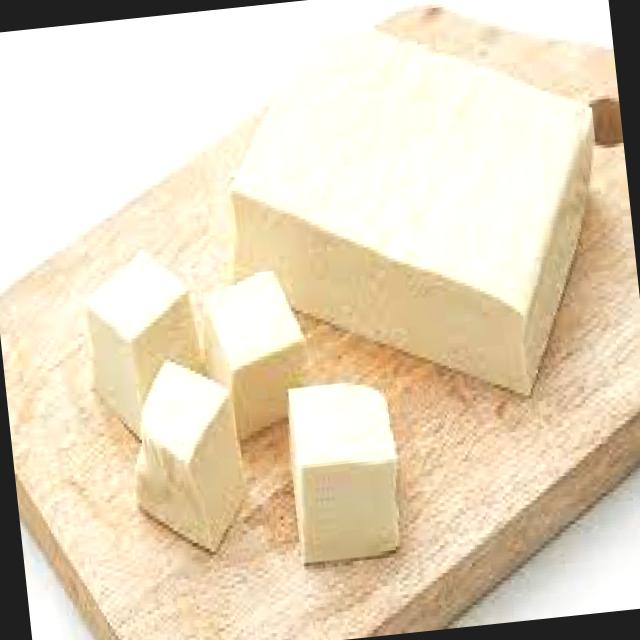tofu: (234, 0, 623, 410), (80, 237, 424, 602)
